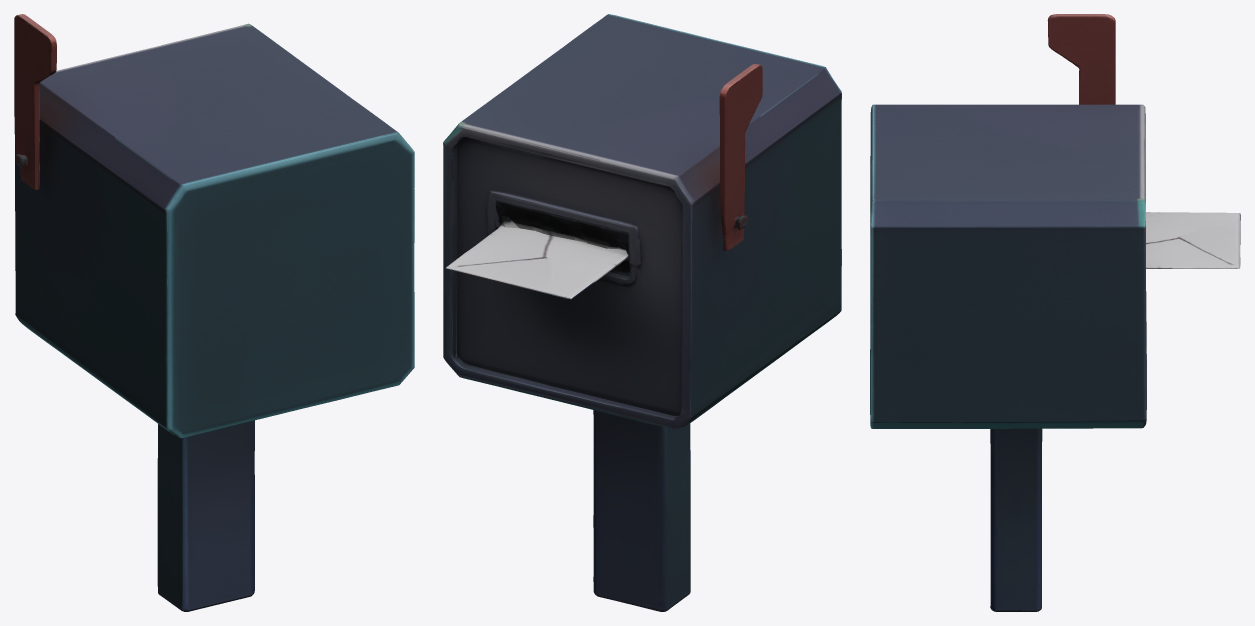
The model's file is carteiro-3d-2.glb.
3 views of the same model, side by side, from view 1: azimuth 30°, elevation 25°; view 2: azimuth 150°, elevation 25°; view 3: azimuth 270°, elevation 25° (orthographic). The views are drawn at different scales.
Parts seen in each view (by area): view 1: world; view 2: world; view 3: world.
Part boxes in pixels (x1=…): world: x1=14, y1=14, x2=414, y2=611; world: x1=443, y1=14, x2=841, y2=611; world: x1=870, y1=14, x2=1240, y2=611.
Size of the model in its own units: 0.4965 by 1 by 0.6441.
1 material, 1 textured.
